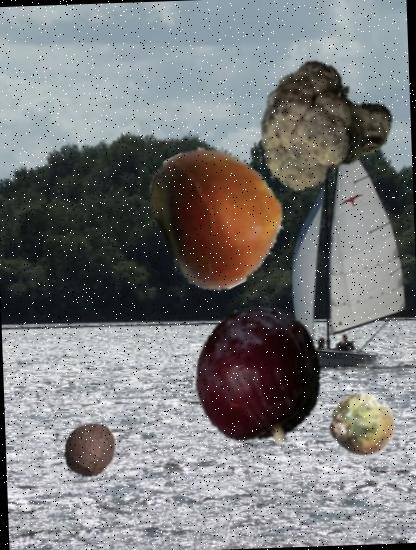Banana: (184, 198, 242, 255)
Cactus: (329, 391, 398, 458)
Cauliflower: (256, 53, 398, 196)
Cocos: (57, 418, 122, 483)
Nut: (146, 139, 294, 288)
Plum: (186, 304, 331, 449)
